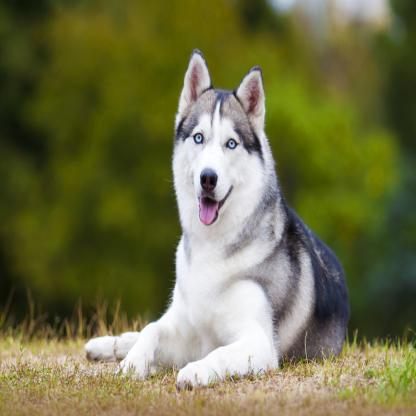dog: (83, 49, 349, 388)
